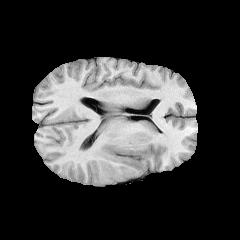glioma: (99, 144, 143, 173)
